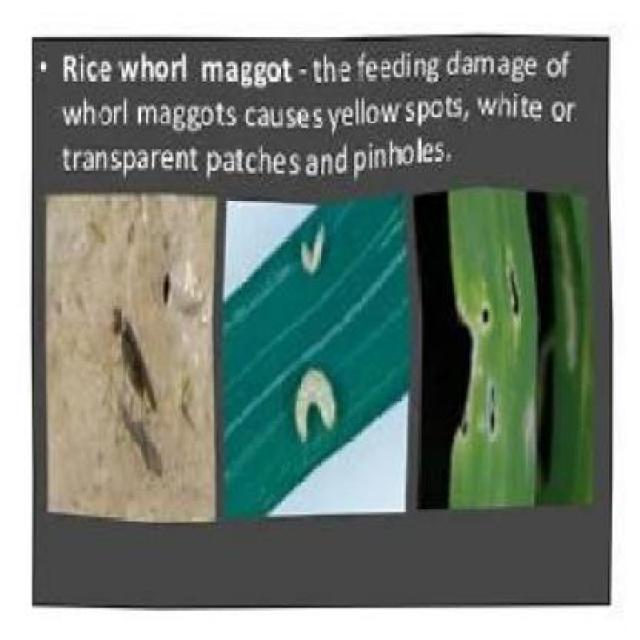whorl-maggot: (290, 364, 344, 442), (295, 219, 334, 281)
